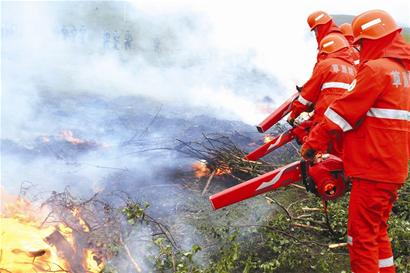fire: (1, 217, 66, 273), (84, 250, 102, 273)
